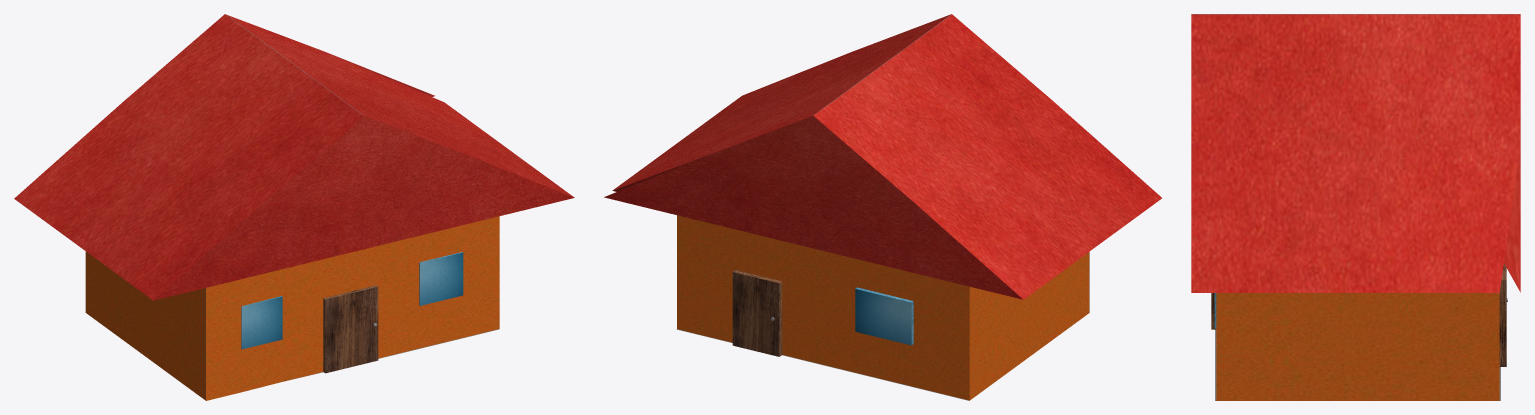
File: house.fbx
3 views of the same model, side by side, from view 1: azimuth 30°, elevation 25°; view 2: azimuth 150°, elevation 25°; view 3: azimuth 270°, elevation 25° (orthographic). The views are drawn at different scales.
Visible parts, largest first — view 1: pCylinder2; view 2: pCylinder2; view 3: pCylinder2.
Part boxes in pixels (x1,y1,x2,y2): pCylinder2: (14,14,574,400); pCylinder2: (604,14,1162,400); pCylinder2: (1191,14,1520,400).
Bounding box in the file's own units: 34.44 × 20 × 19.71.
